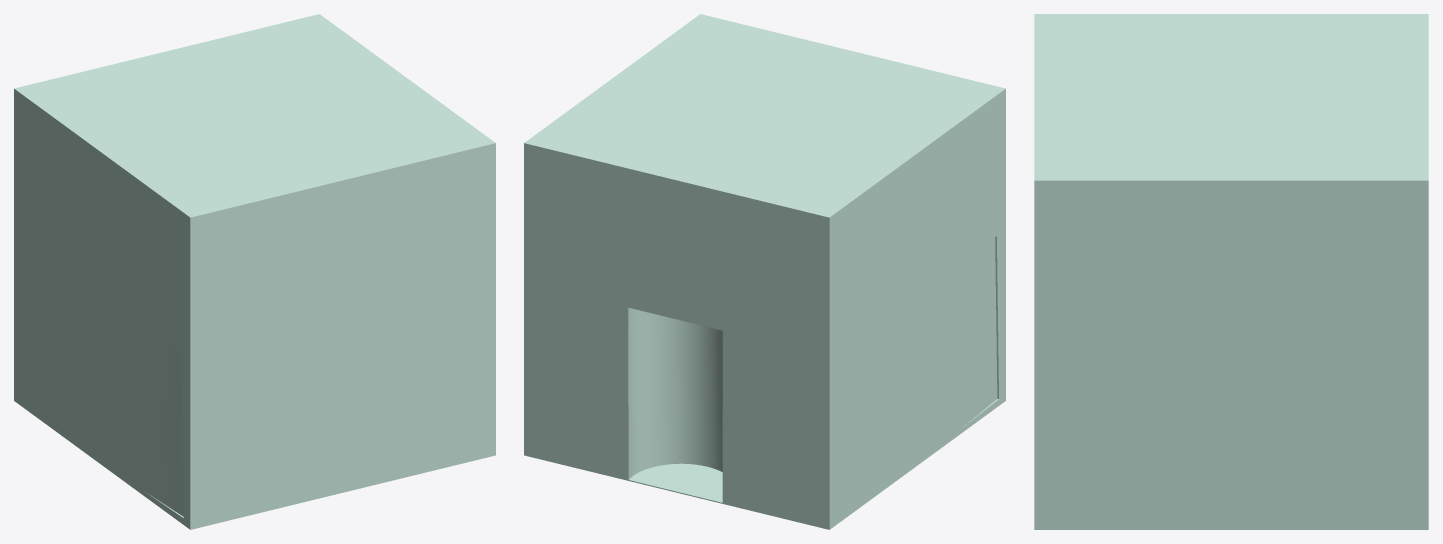
3 renders of one model, left to right at view 1: azimuth 30°, elevation 25°; view 2: azimuth 150°, elevation 25°; view 3: azimuth 270°, elevation 25°, orthographic. The views are drawn at different scales.
Parts seen in each view (by area): view 1: Renderer Node; view 2: Renderer Node; view 3: Renderer Node.
Boxes of the visible parts, x1,y1,x2,y2 form: Renderer Node: [14, 14, 495, 529]; Renderer Node: [524, 14, 1005, 529]; Renderer Node: [1034, 14, 1428, 529].
Size of the model in its own units: 1.02 by 0.9922 by 1.02.
